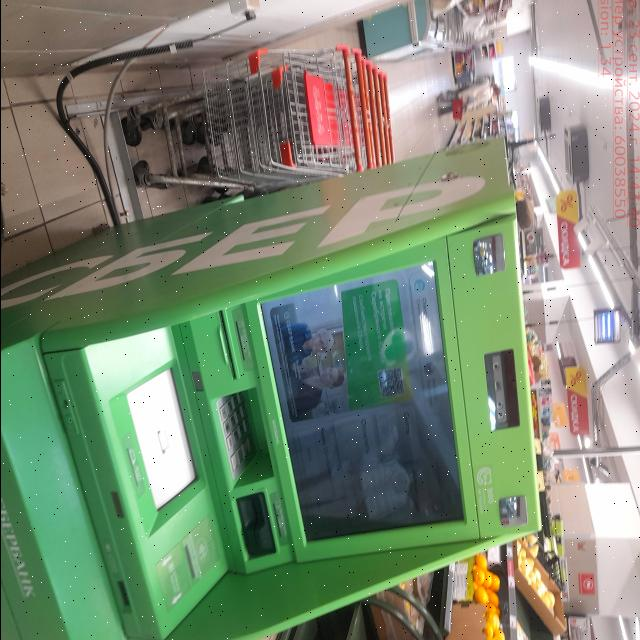bank: (0, 135, 540, 640)
